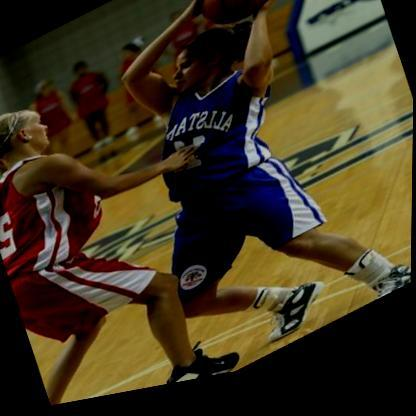basketball: (191, 0, 285, 47)
